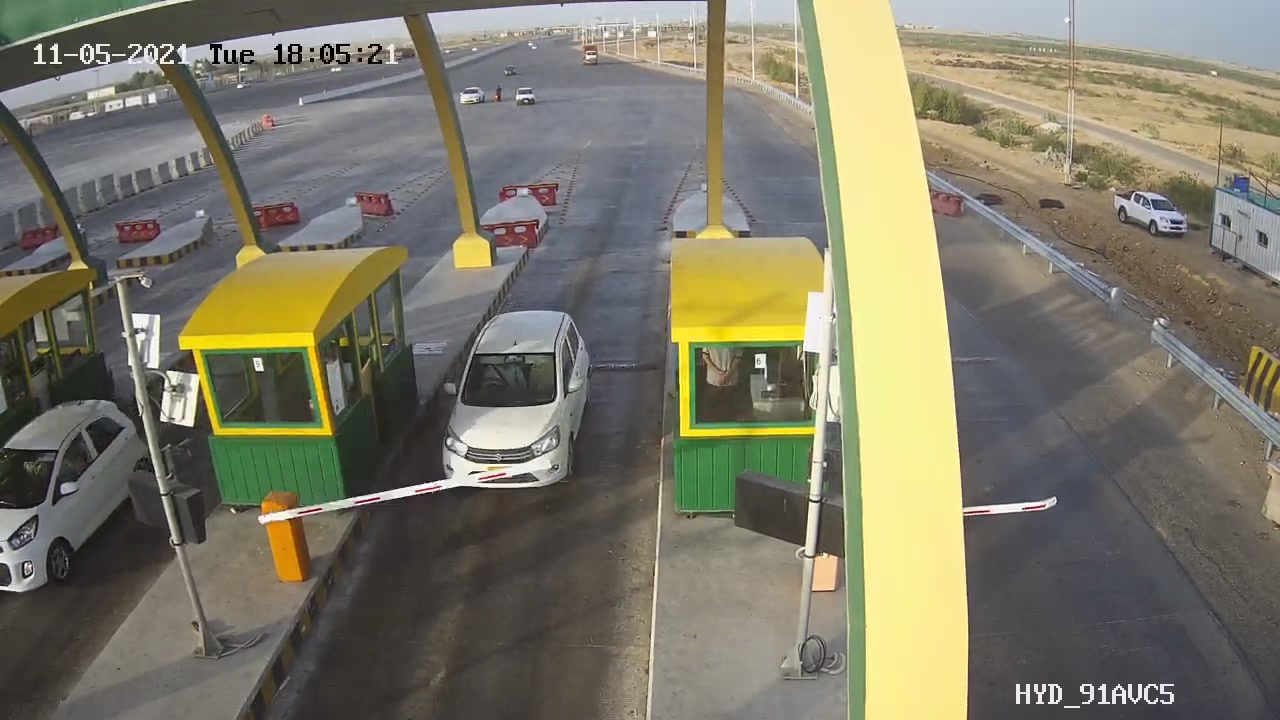F1: (411, 301, 625, 521)
